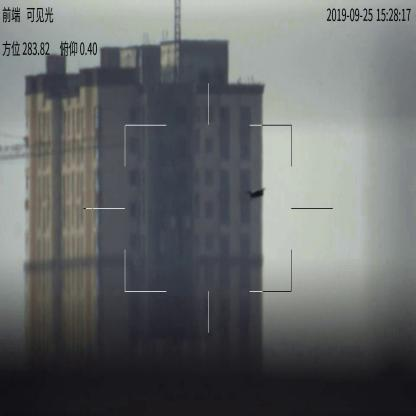uav: (248, 187, 264, 199)
